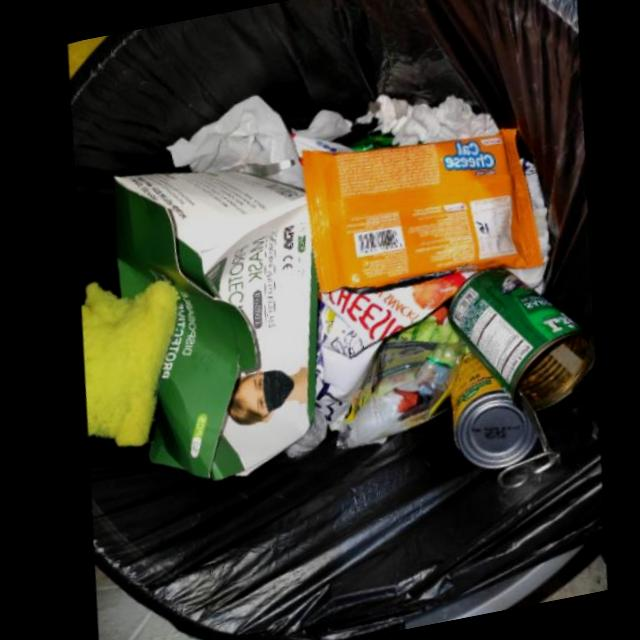bao_bi_thuc_pham: (296, 127, 542, 289), (313, 268, 475, 418)
carton: (109, 165, 316, 473)
giay: (371, 91, 497, 144)
goi_nhua_nho: (373, 339, 433, 391)
nhom: (446, 265, 595, 485), (448, 349, 536, 466)
